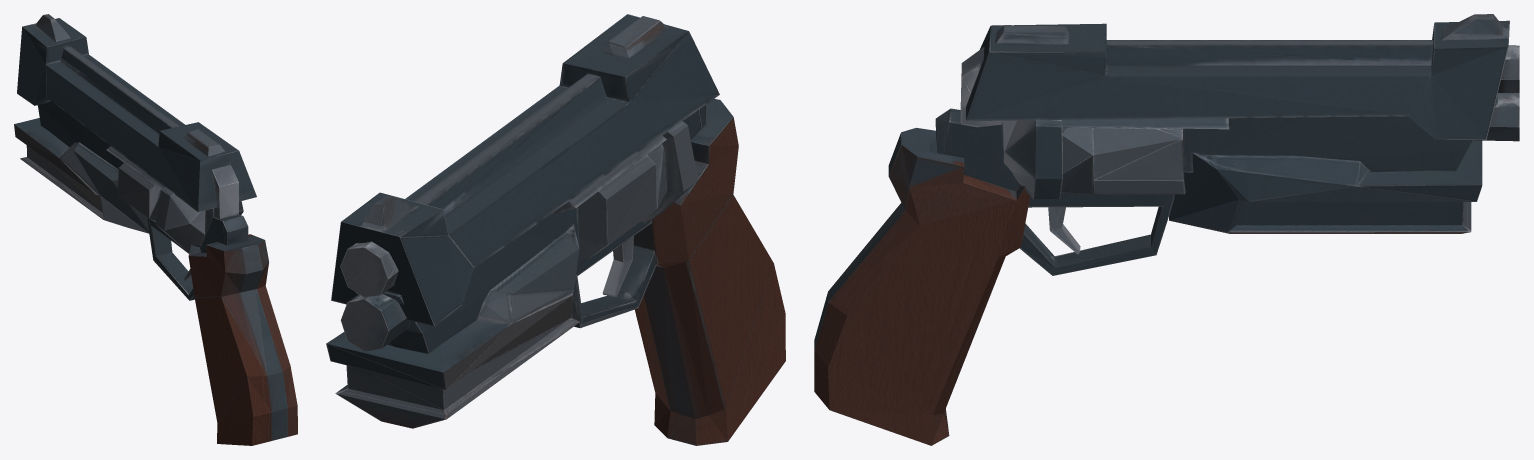
File: gun.obj
3 views of the same model, side by side, from view 1: azimuth 30°, elevation 25°; view 2: azimuth 150°, elevation 25°; view 3: azimuth 270°, elevation 25° (orthographic). The views are drawn at different scales.
Bounding box in the file's own units: 0.0571 × 0.1945 × 0.3.
1 material, 1 textured.
